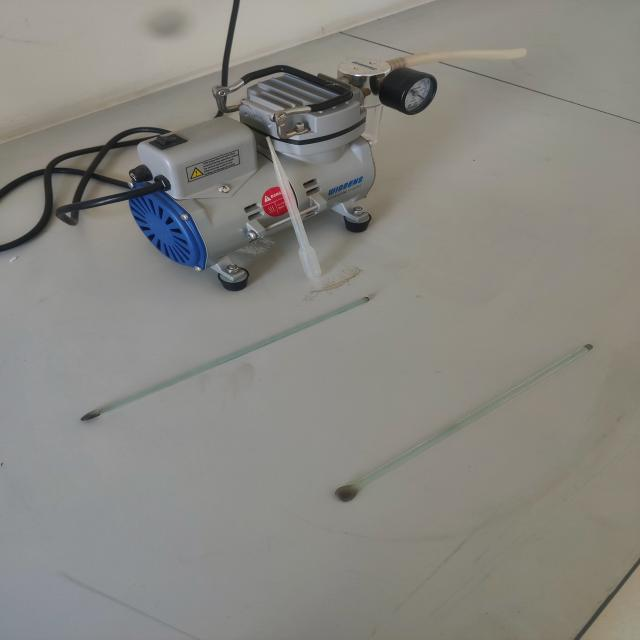Glass_Rod: (302, 325, 619, 510), (56, 274, 416, 432)
Pipette: (237, 109, 347, 298)
